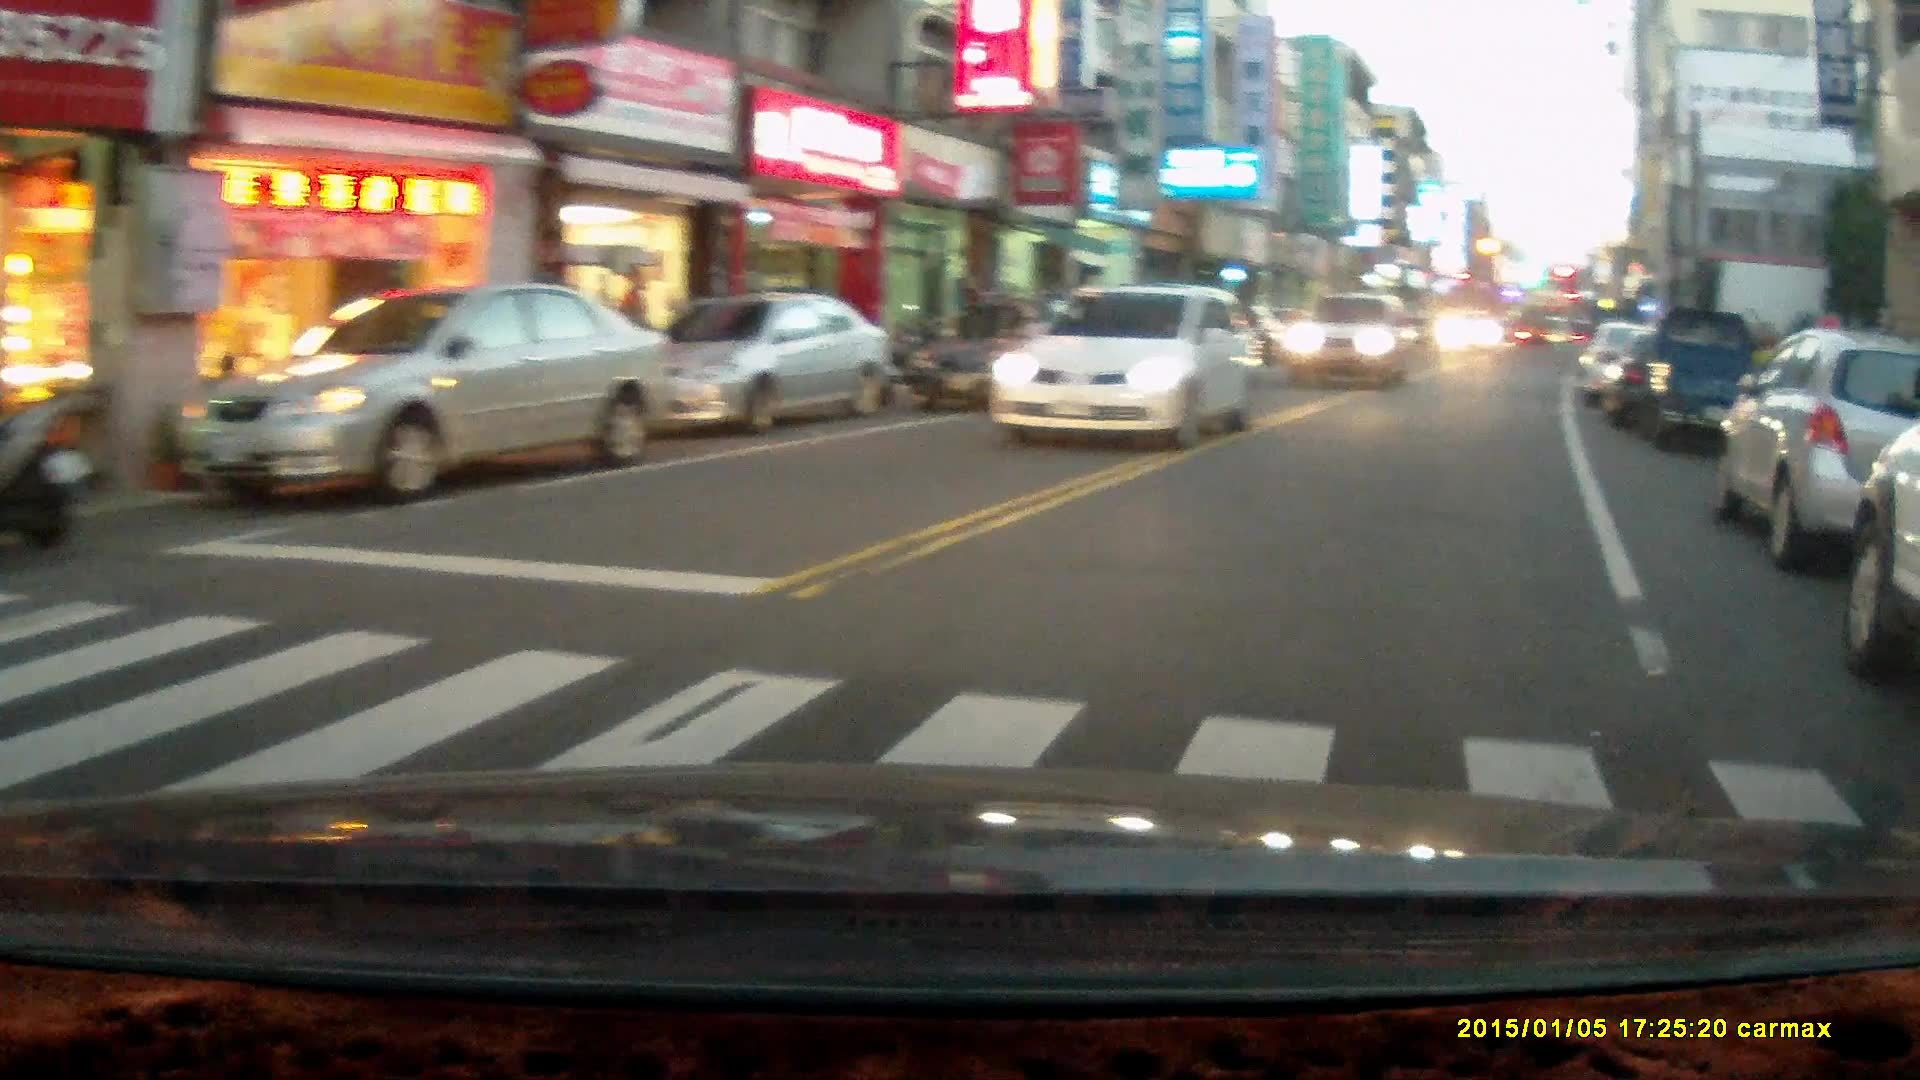vehicle: (175, 281, 665, 509), (1716, 328, 1920, 572), (986, 282, 1267, 450), (609, 291, 897, 430), (1618, 307, 1760, 448), (1280, 290, 1422, 385), (1575, 322, 1713, 415), (1433, 307, 1507, 357)
